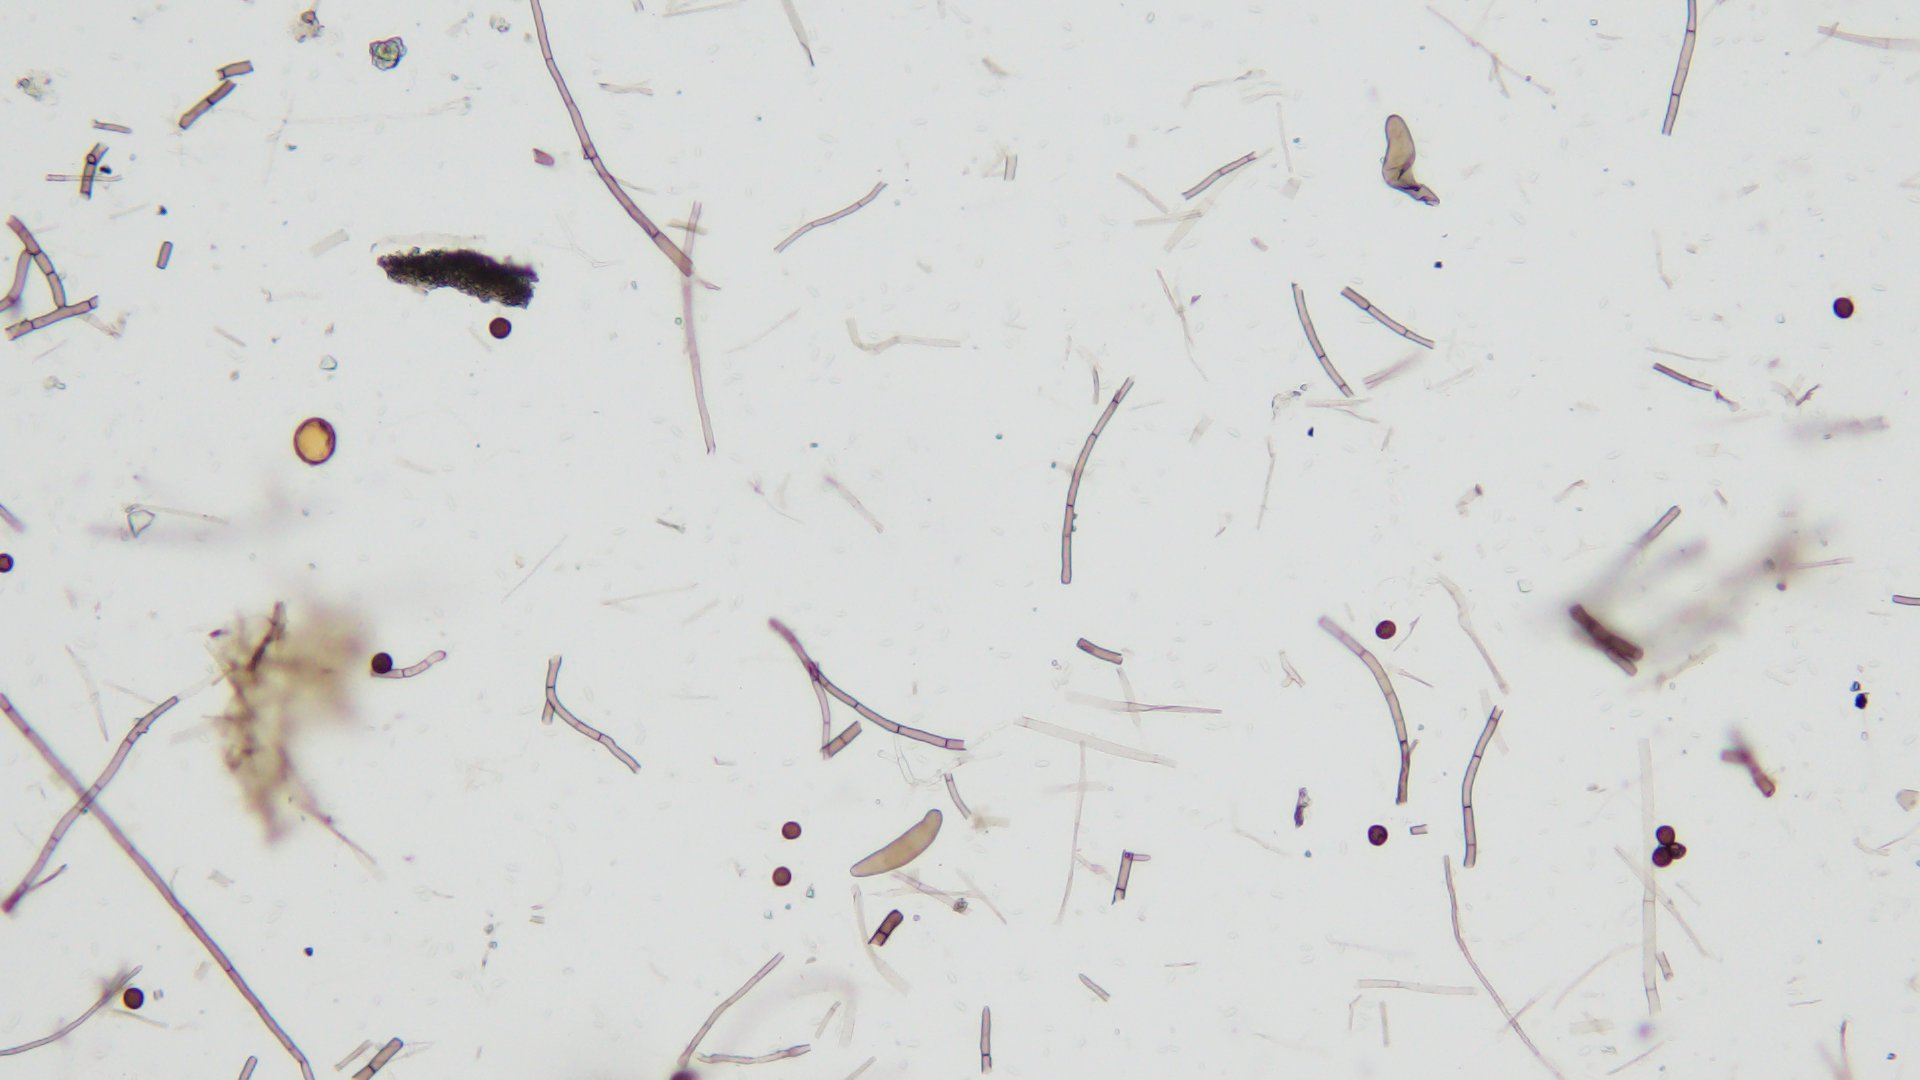dbb_spore: (851, 810, 943, 880)
shs_spore: (487, 318, 514, 342), (368, 650, 394, 674), (1833, 295, 1854, 320), (1655, 825, 1680, 845), (125, 986, 145, 1009), (1366, 825, 1389, 845), (781, 822, 802, 841), (1375, 620, 1395, 640), (771, 866, 790, 886), (1668, 843, 1687, 861), (1654, 847, 1669, 866)
xb_spore: (293, 419, 336, 465)
